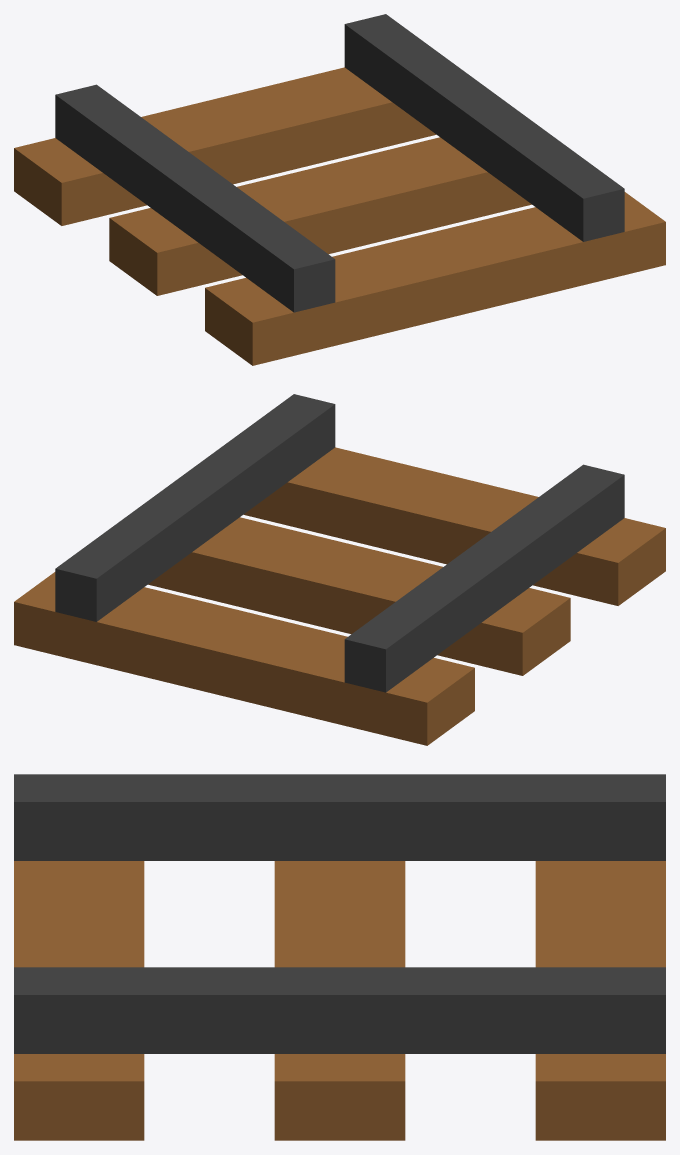
The model's file is Rail.obj.
The picture shows the model from 3 angles, top to bottom: view 1: azimuth 30°, elevation 25°; view 2: azimuth 150°, elevation 25°; view 3: azimuth 270°, elevation 25°; orthographic projection. The views are drawn at different scales.
Size of the model in its own units: 1 by 0.2 by 1.
Materials: 1 (1 with a texture image).
